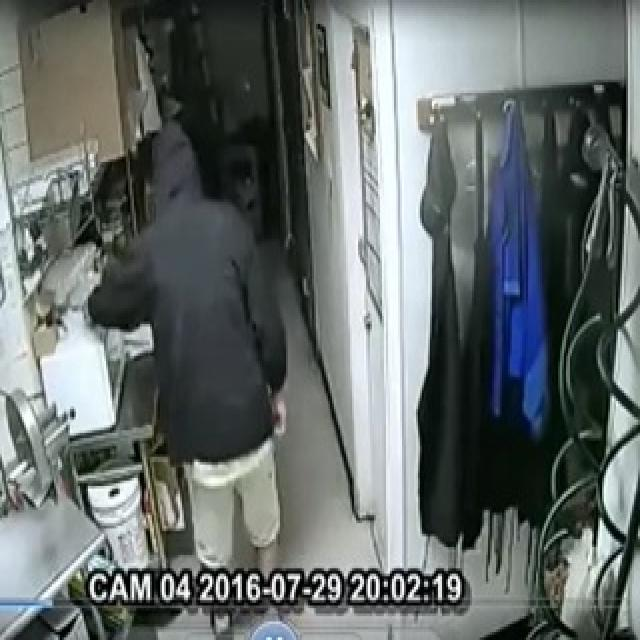thief: (116, 136, 289, 512)
